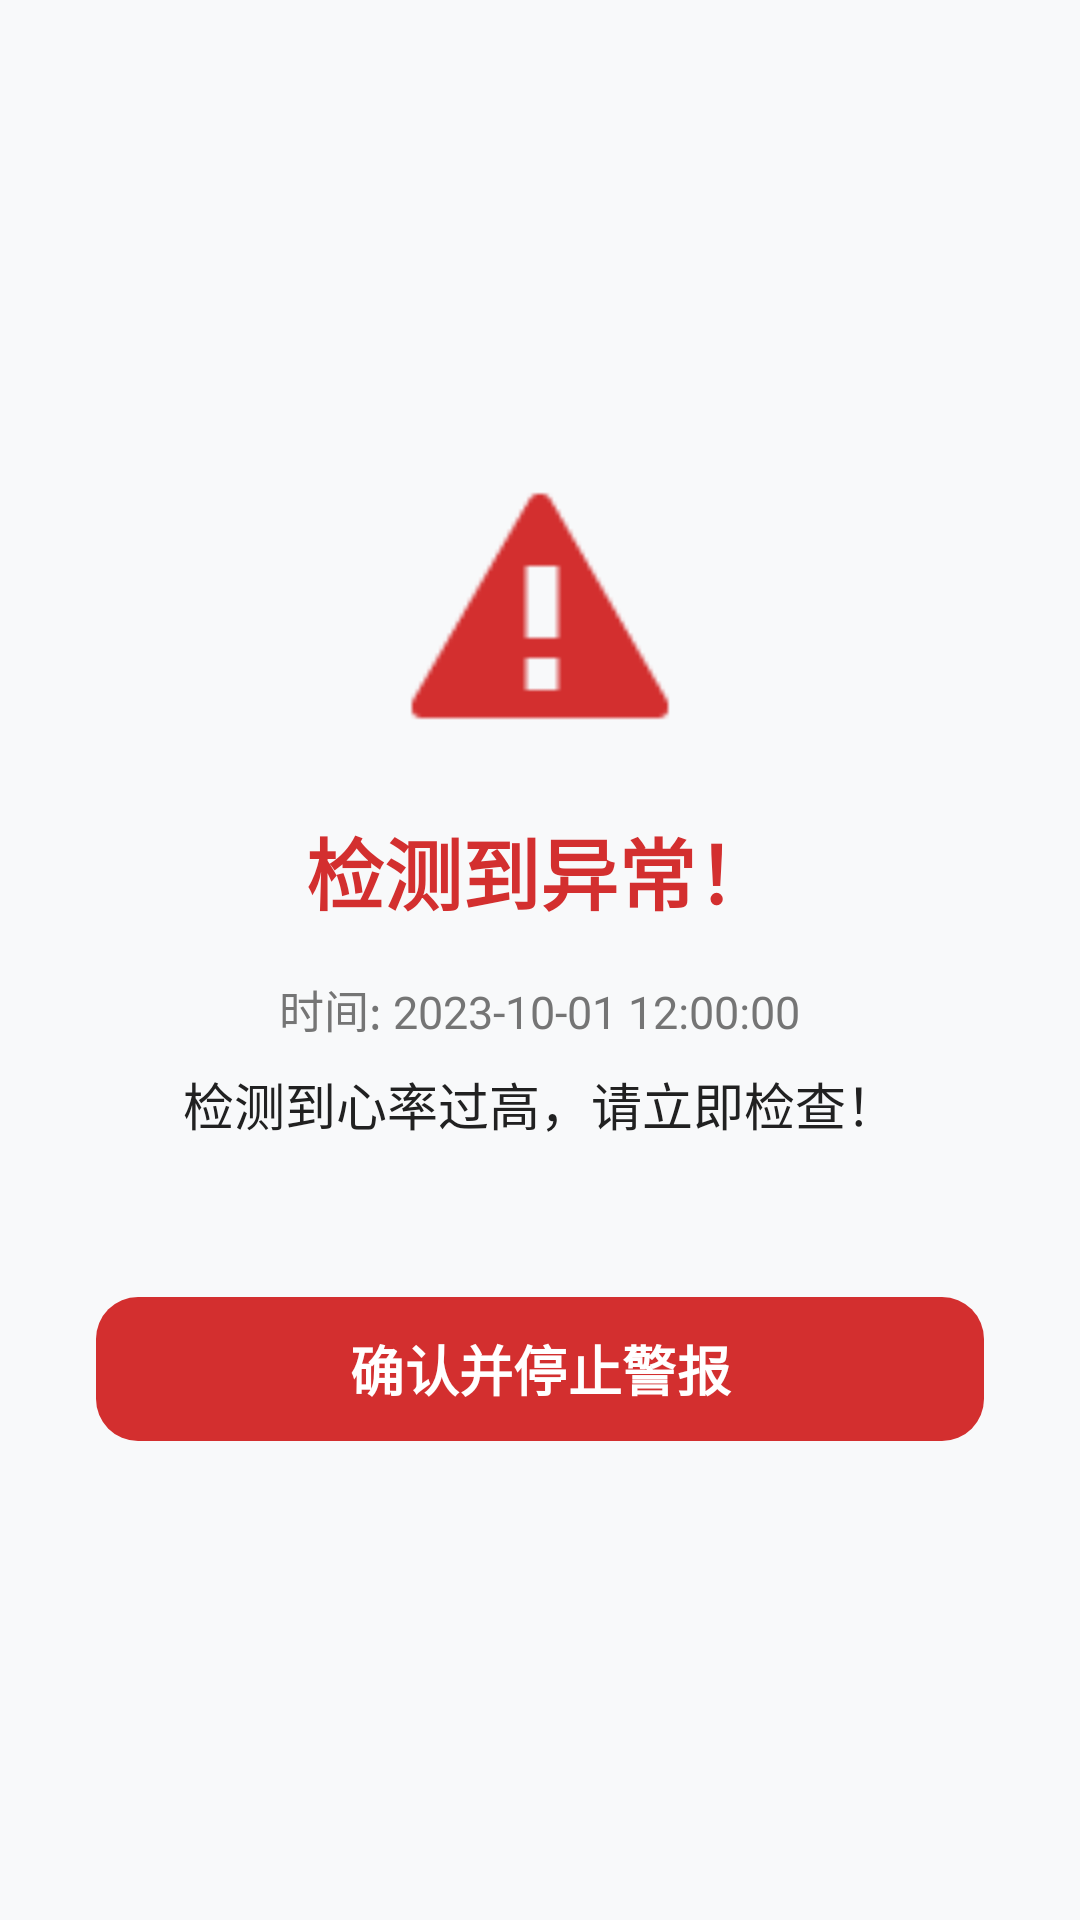

Icon click points for this 1080px×1920px phone screenshot, format point (x, y):
error: point (540, 606)
